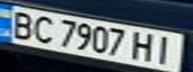0: (90, 24, 109, 55)
7: (54, 17, 78, 48), (106, 26, 130, 57)
9: (72, 20, 93, 52)
B: (3, 9, 39, 39)
C: (27, 14, 60, 44)
H: (127, 29, 160, 62)
I: (151, 34, 181, 65)
